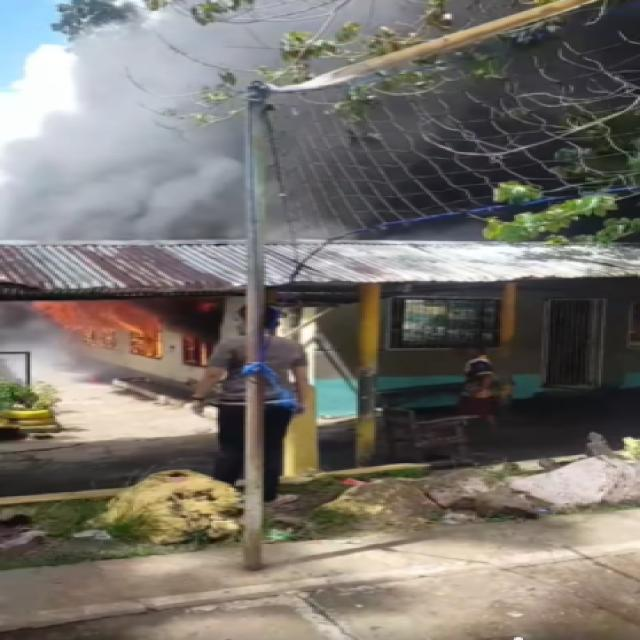Fire: (0, 293, 218, 372)
Smoke: (0, 0, 640, 238)
